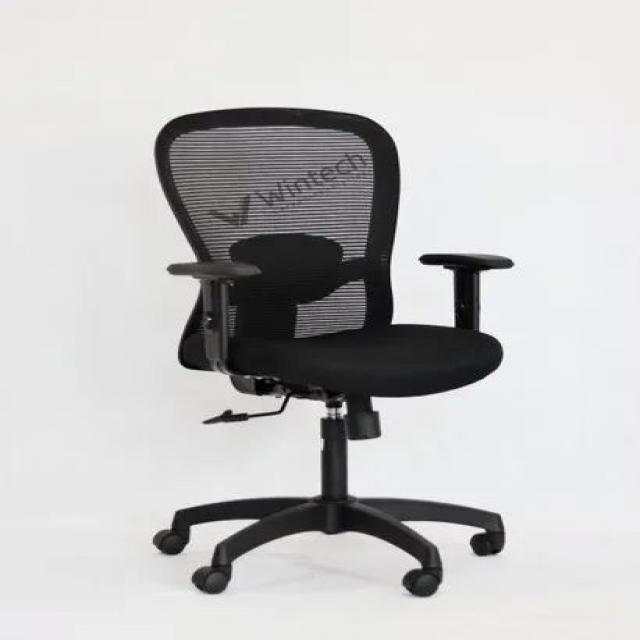chair: (133, 103, 507, 600)
